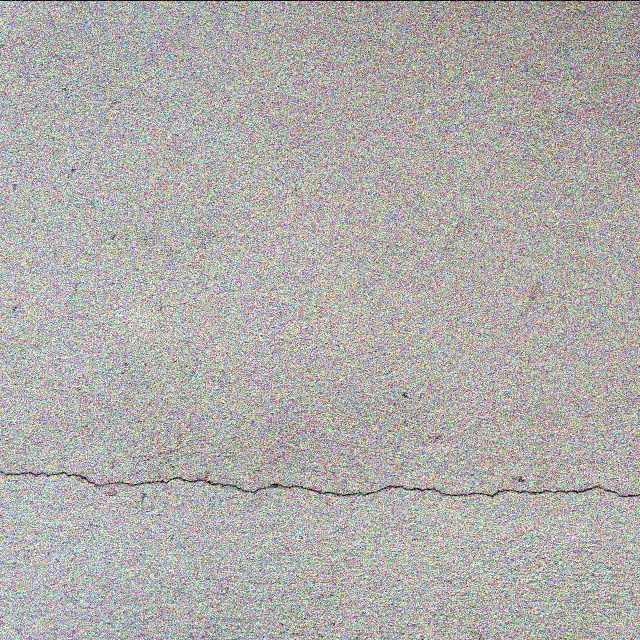SurfaceCrack: (0, 423, 639, 547)
